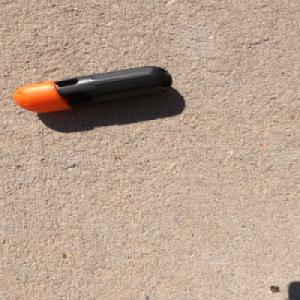PlasticPart: (15, 65, 176, 114)
